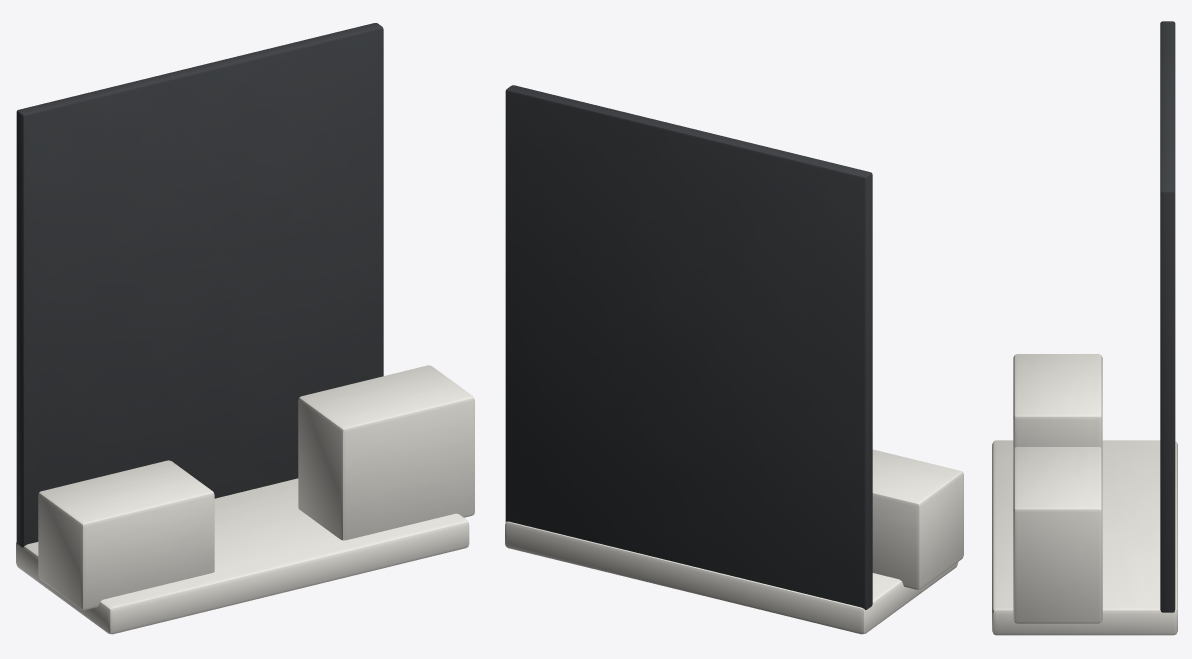
File: pf_display_window_display_t1.glb
3 renders of one model, left to right at view 1: azimuth 30°, elevation 25°; view 2: azimuth 150°, elevation 25°; view 3: azimuth 270°, elevation 25°, orthographic. The views are drawn at different scales.
Parts seen in each view (by area): view 1: Window_Backdrop, Display_Plinth_02, Window_Display_Platform, Display_Plinth_01; view 2: Window_Backdrop, Window_Display_Platform, Display_Plinth_01; view 3: Window_Display_Platform, Display_Plinth_02, Window_Backdrop, Display_Plinth_01.
Part boxes in pixels (left/top/right/bottom): Window_Backdrop: left=16, top=23, right=383, bottom=547; Display_Plinth_02: left=298, top=365, right=474, bottom=540; Window_Display_Platform: left=16, top=478, right=469, bottom=634; Display_Plinth_01: left=38, top=460, right=214, bottom=610; Window_Backdrop: left=505, top=85, right=872, bottom=610; Window_Display_Platform: left=505, top=521, right=958, bottom=634; Display_Plinth_01: left=872, top=449, right=963, bottom=589; Window_Display_Platform: left=992, top=440, right=1177, bottom=635; Display_Plinth_02: left=1013, top=447, right=1102, bottom=623; Window_Backdrop: left=1160, top=21, right=1175, bottom=612; Display_Plinth_01: left=1013, top=354, right=1102, bottom=449.
Size of the model in its own units: 1.31 by 1.5 by 0.55.
3 materials, 2 textured.
